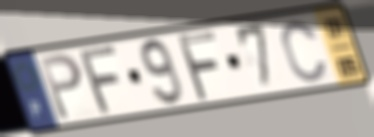7: (232, 21, 275, 93)
9: (139, 34, 187, 110)
C: (279, 19, 329, 85)
F: (174, 29, 224, 105), (78, 42, 124, 118)
P: (36, 50, 86, 124)
